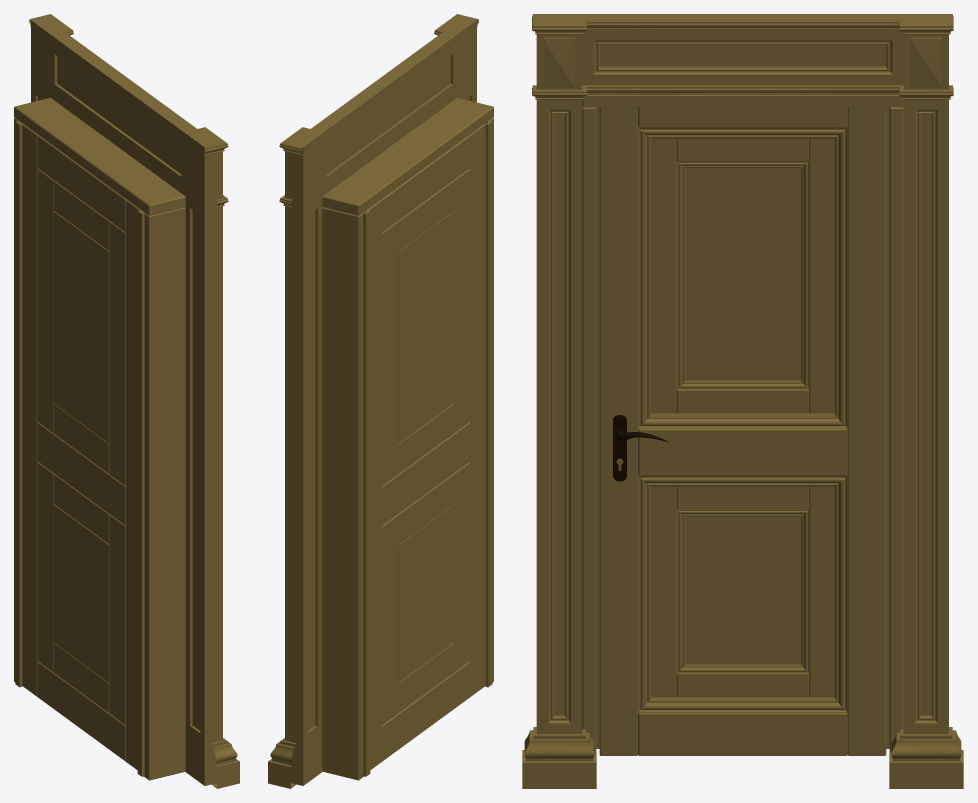
Rendered from Door.FBX.
The picture shows the model from 3 angles, left to right: view 1: azimuth 30°, elevation 25°; view 2: azimuth 150°, elevation 25°; view 3: azimuth 270°, elevation 25°; orthographic projection. The views are drawn at different scales.
Parts seen in each view (by area): view 1: ChamferBo1, Rectangle2, Rectangl15, Rectangl16, ChamferBo2, ChamferB13, Rectangle1, ChamferBox, Rectangle6, ChamferBo8, ChamferBo7, ChamferBo4 (+13 smaller); view 2: ChamferBo0, Rectangle3, Rectangl15, Rectangl16, ChamferB13, ChamferBo2, Rectangle1, ChamferBox, Rectangle7, ChamferBo7, ChamferBo8, ChamferBo4 (+13 smaller); view 3: Rectangl15, ChamferBo2, ChamferB13, Rectangle2, Rectangle3, Rectangl11, Rectangl12, ChamferBo4, Rectangle4, Rectangle5, Rectangle1, ChamferBo0 (+26 smaller).
Part boxes in pixels (x1=…): ChamferBo1: x1=144, y1=207, x2=185, y2=780; Rectangle2: x1=185, y1=129, x2=222, y2=785; Rectangl15: x1=53, y1=211, x2=109, y2=682; Rectangl16: x1=15, y1=121, x2=144, y2=776; ChamferBo2: x1=22, y1=123, x2=38, y2=696; ChamferB13: x1=126, y1=200, x2=143, y2=769; Rectangle1: x1=50, y1=32, x2=195, y2=196; ChamferBox: x1=14, y1=98, x2=185, y2=215; Rectangle6: x1=192, y1=210, x2=200, y2=730; ChamferBo8: x1=37, y1=168, x2=54, y2=432; ChamferBo7: x1=109, y1=221, x2=125, y2=485; ChamferBo4: x1=37, y1=422, x2=125, y2=525; ChamferBo0: x1=322, y1=207, x2=363, y2=780; Rectangle3: x1=285, y1=129, x2=322, y2=785; Rectangl15: x1=398, y1=211, x2=454, y2=682; Rectangl16: x1=363, y1=121, x2=492, y2=776; ChamferB13: x1=469, y1=123, x2=485, y2=696; ChamferBo2: x1=364, y1=200, x2=381, y2=769; Rectangle1: x1=312, y1=32, x2=457, y2=196; ChamferBox: x1=322, y1=98, x2=493, y2=215; Rectangle7: x1=307, y1=210, x2=315, y2=730; ChamferBo7: x1=453, y1=168, x2=470, y2=432; ChamferBo8: x1=382, y1=221, x2=398, y2=485; ChamferBo4: x1=382, y1=422, x2=470, y2=525; Rectangl15: x1=676, y1=161, x2=800, y2=671; ChamferBo2: x1=847, y1=107, x2=886, y2=755; ChamferB13: x1=599, y1=107, x2=637, y2=755; Rectangle2: x1=536, y1=14, x2=582, y2=733; Rectangle3: x1=903, y1=14, x2=948, y2=733; Rectangl11: x1=638, y1=127, x2=847, y2=428; Rectangl12: x1=638, y1=475, x2=847, y2=712; ChamferBo4: x1=638, y1=428, x2=847, y2=475; Rectangle4: x1=547, y1=109, x2=571, y2=723; Rectangle5: x1=914, y1=109, x2=938, y2=723; Rectangle1: x1=582, y1=14, x2=903, y2=85; ChamferBo0: x1=889, y1=107, x2=903, y2=751.
Bounding box in the file's own units: 10.29 × 91.73 × 48.36.
